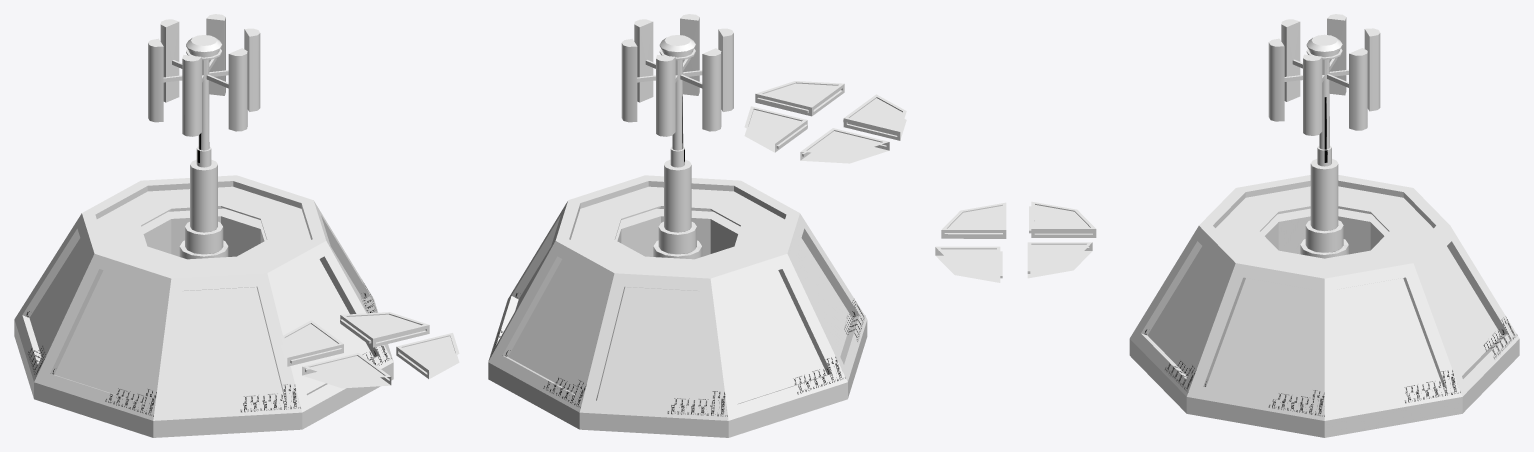
Rendered from TurretControl explo.FBX.
3 renders of one model, left to right at view 1: azimuth 30°, elevation 25°; view 2: azimuth 150°, elevation 25°; view 3: azimuth 270°, elevation 25°, orthographic.
Parts seen in each view (by area): view 1: base, pole4, hatch1, hatch3, pole3, hatch2, hatch4, pole2, pole1; view 2: base, pole4, hatch4, hatch2, pole3, hatch3, hatch1, pole2, pole1; view 3: base, pole4, hatch2, pole3, hatch4, hatch1, hatch3, pole2.
Part boxes in pixels (x1=…): base: x1=14, y1=175, x2=393, y2=437; pole4: x1=148, y1=14, x2=260, y2=167; hatch1: x1=340, y1=312, x2=429, y2=347; hatch3: x1=302, y1=353, x2=391, y2=388; pole3: x1=190, y1=159, x2=217, y2=232; hatch2: x1=396, y1=333, x2=459, y2=378; hatch4: x1=281, y1=320, x2=343, y2=366; pole2: x1=185, y1=221, x2=223, y2=254; pole1: x1=179, y1=240, x2=228, y2=259; base: x1=488, y1=175, x2=867, y2=437; pole4: x1=621, y1=14, x2=733, y2=167; hatch4: x1=800, y1=128, x2=889, y2=163; hatch2: x1=755, y1=81, x2=844, y2=116; pole3: x1=664, y1=159, x2=691, y2=232; hatch3: x1=843, y1=94, x2=906, y2=140; hatch1: x1=744, y1=106, x2=807, y2=152; pole2: x1=658, y1=221, x2=696, y2=254; pole1: x1=653, y1=240, x2=702, y2=259; base: x1=1129, y1=175, x2=1519, y2=437; pole4: x1=1268, y1=14, x2=1380, y2=166; hatch2: x1=935, y1=246, x2=1002, y2=282; pole3: x1=1310, y1=158, x2=1338, y2=230; hatch4: x1=1029, y1=201, x2=1096, y2=237; hatch1: x1=1027, y1=242, x2=1092, y2=278; hatch3: x1=941, y1=202, x2=1006, y2=238; pole2: x1=1305, y1=220, x2=1343, y2=252.
Bounding box in the file's own units: 48.3 × 43.45 × 72.36.
